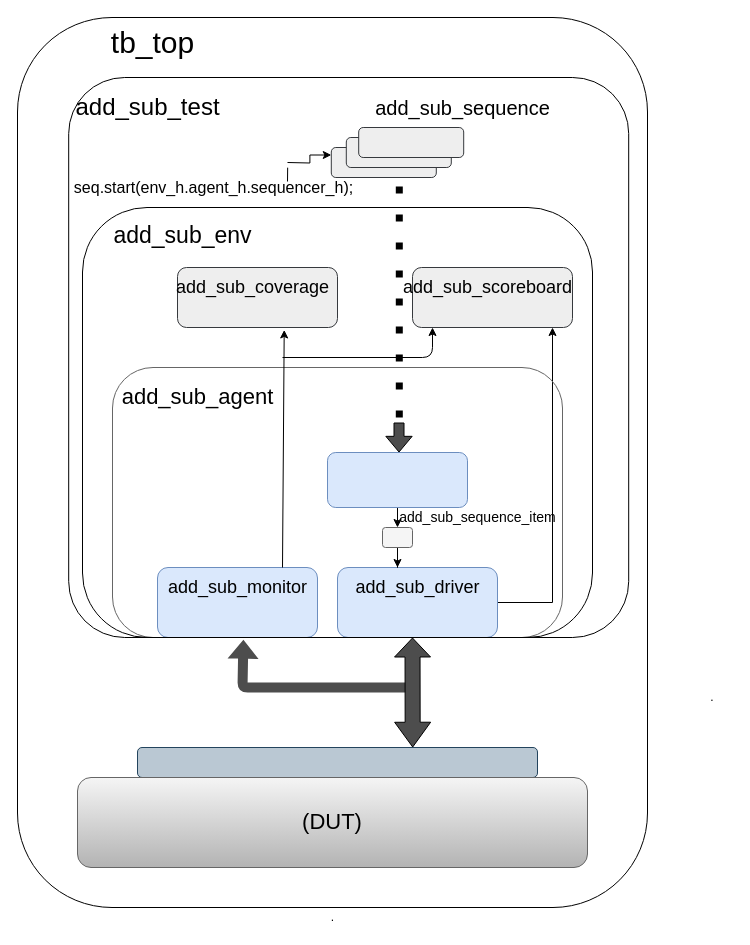
Some shapes in this 750 by 945 pixel diagram are drawn without their labels. The box of each missing label's shape, as (x1, y1, x2, y2) in pixels:
add_sub_sequencer: (326, 452, 468, 508)
interface: (136, 746, 538, 778)
